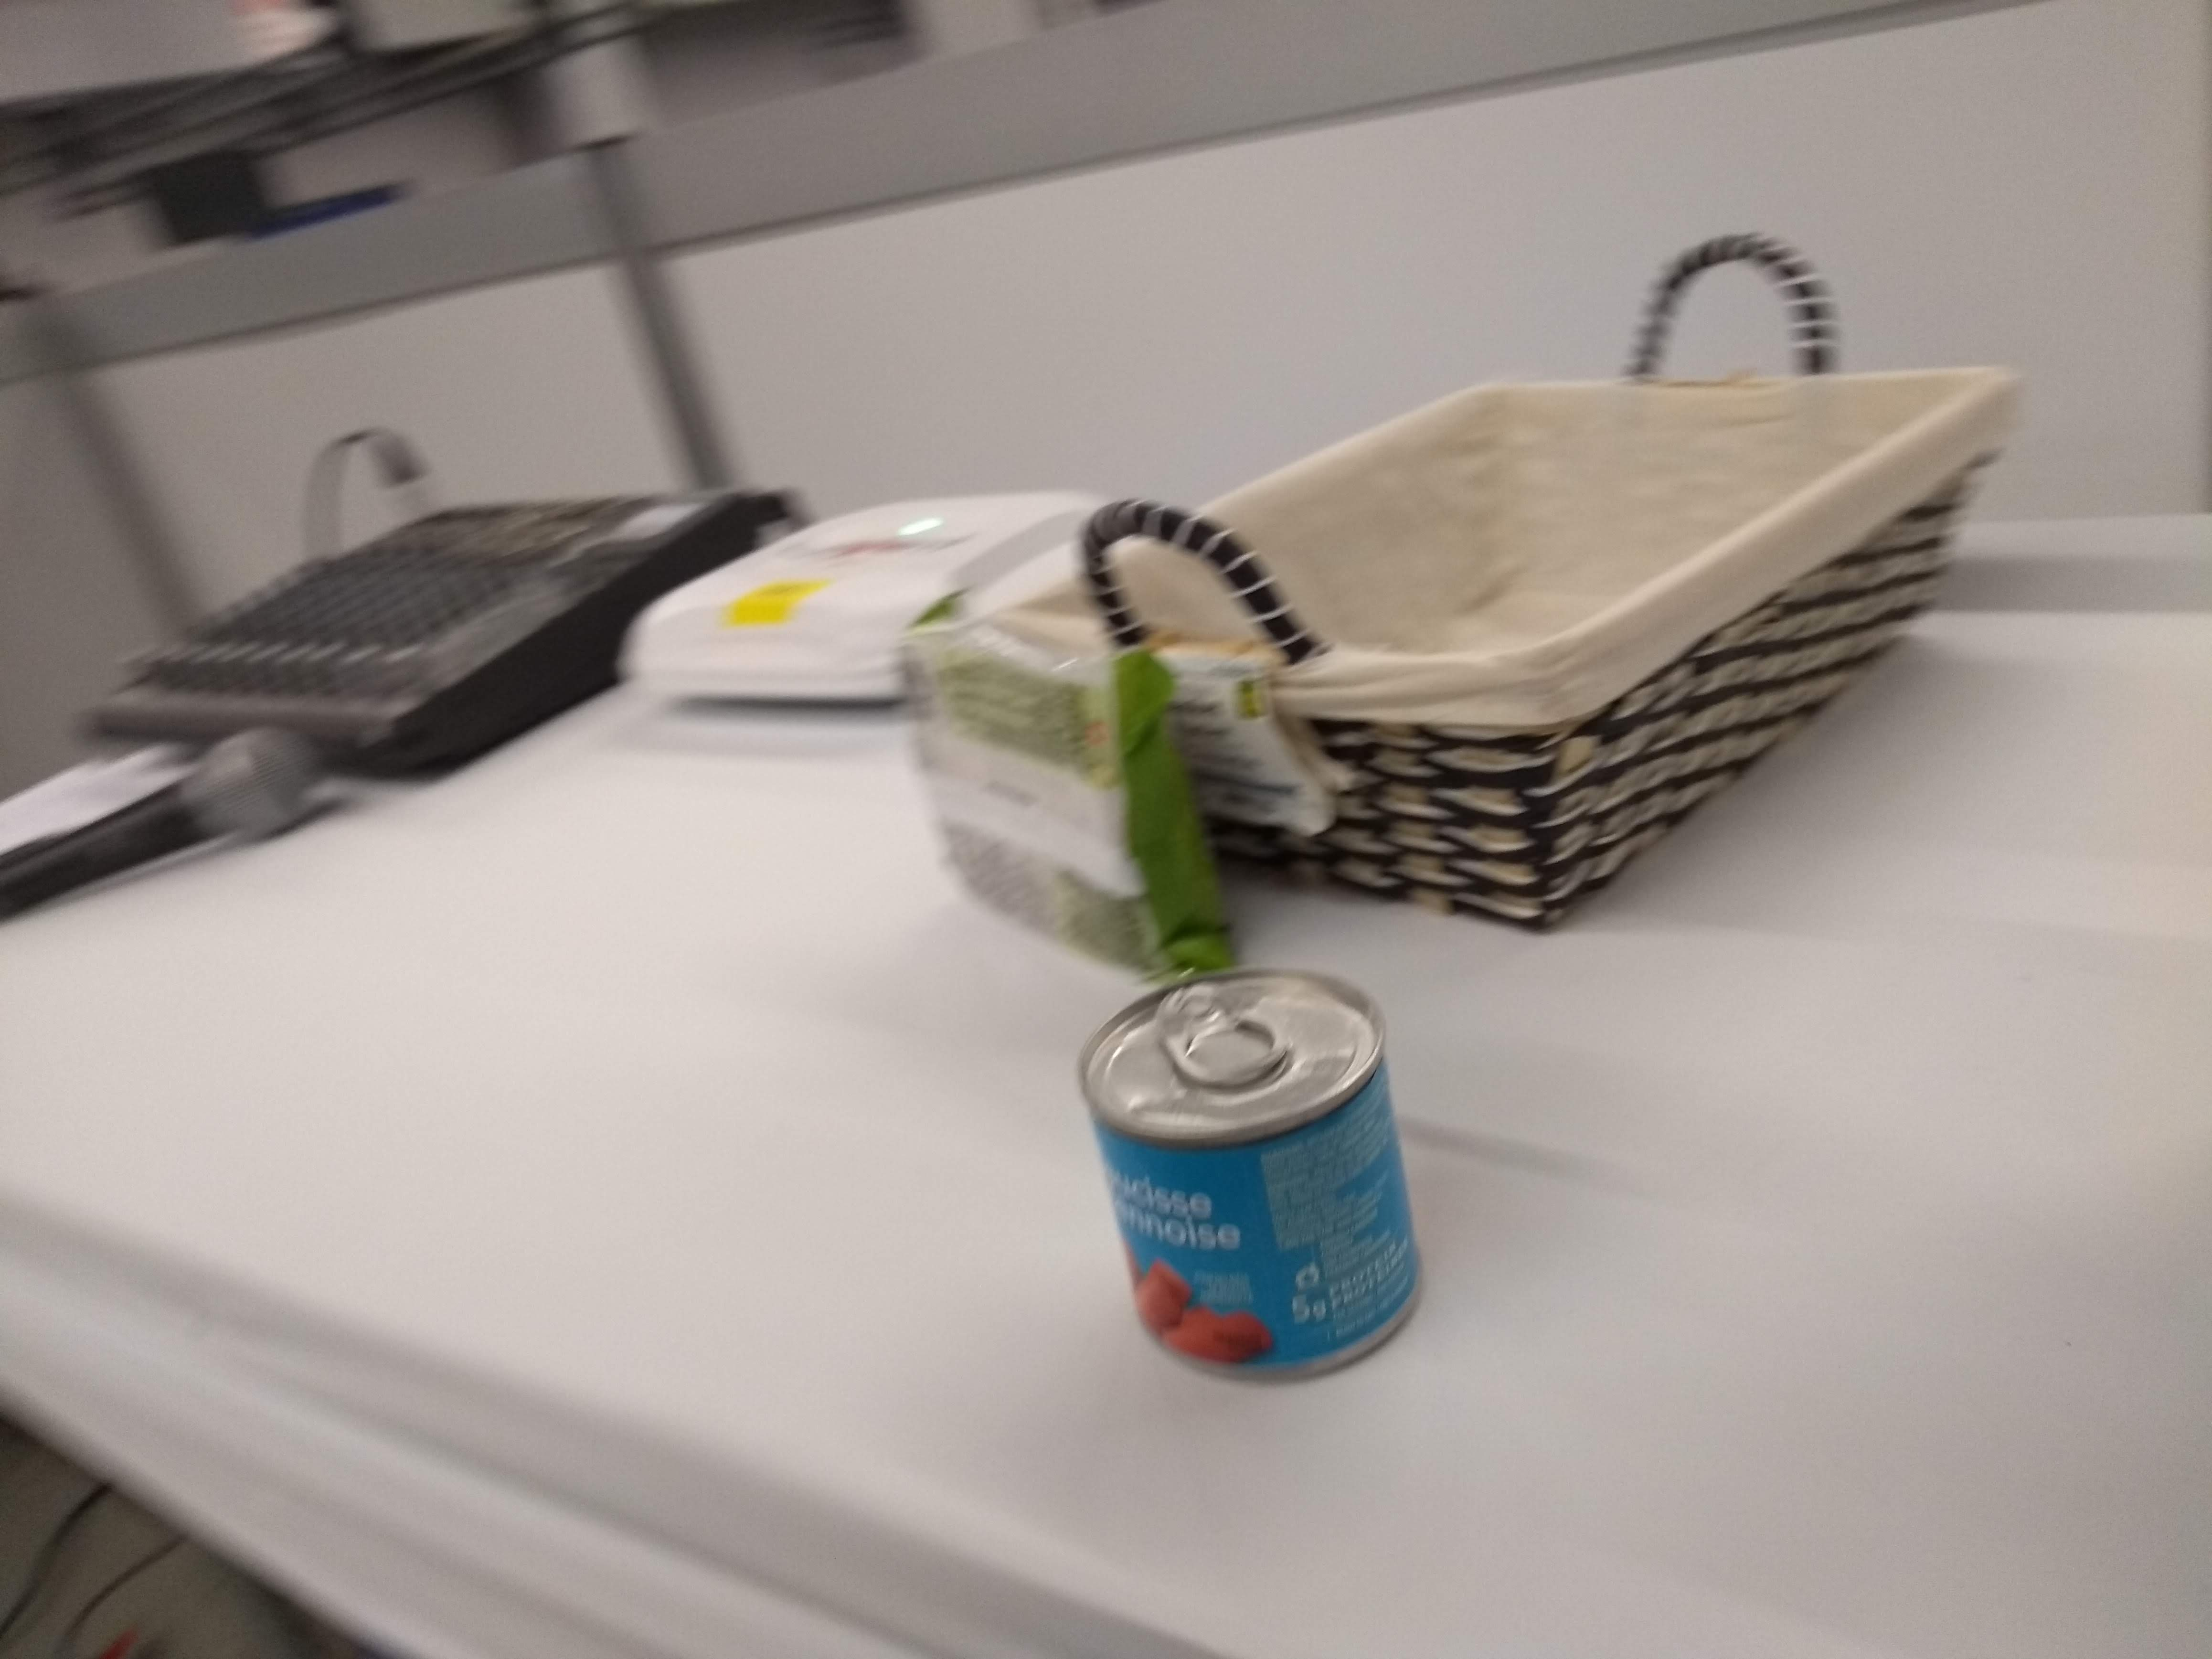basket: (1108, 211, 2031, 934)
noodles: (876, 617, 1252, 985)
sausages: (1078, 955, 1437, 1401)
